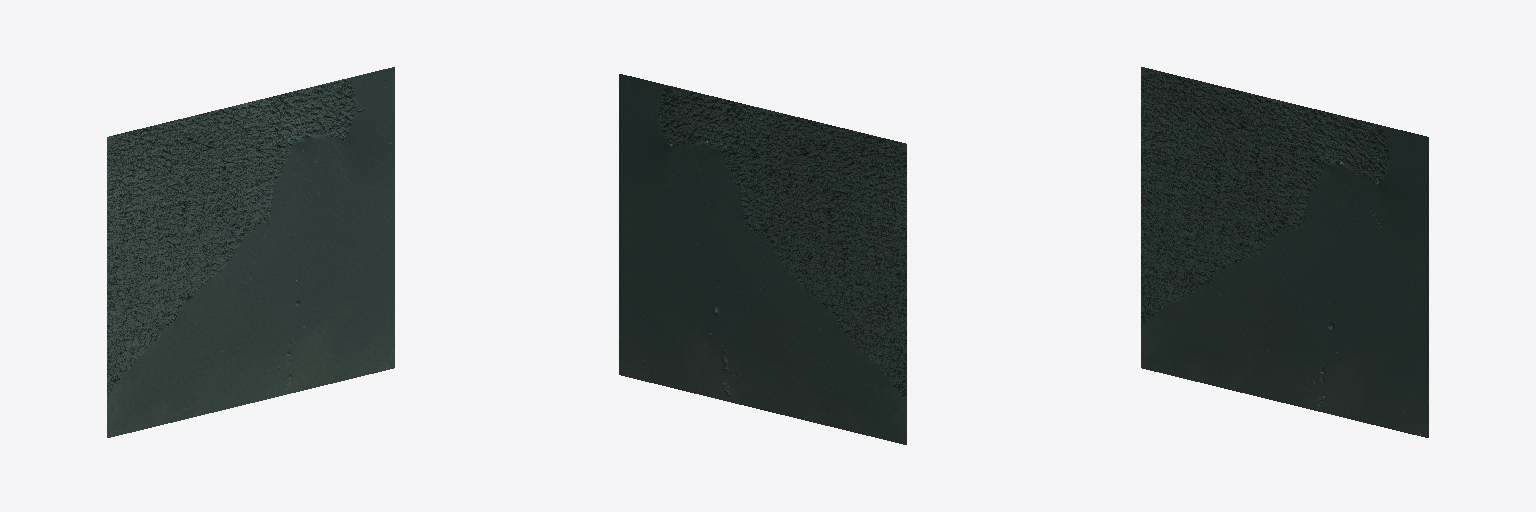
3 renders of one model, left to right at view 1: azimuth 30°, elevation 25°; view 2: azimuth 150°, elevation 25°; view 3: azimuth 330°, elevation 25°, orthographic.
Size of the model in its own units: 252 by 252 by 18.63.
2 materials, 1 textured.